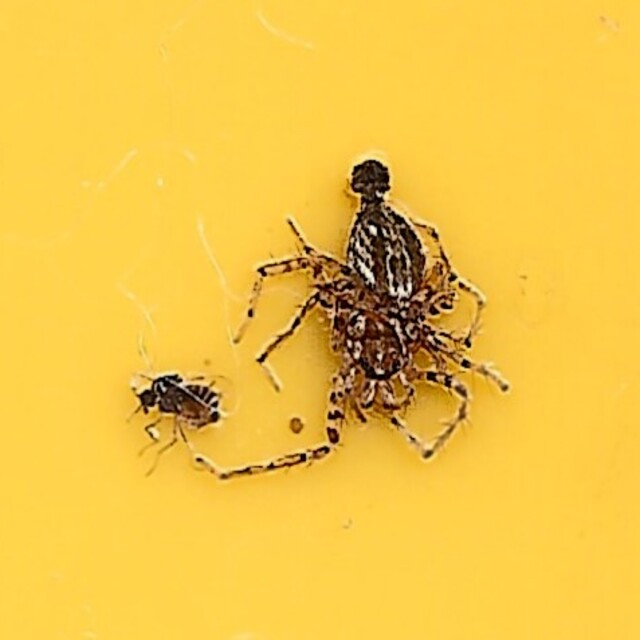Araneae: (201, 155, 506, 485)
Brachycera: (134, 363, 231, 475)
